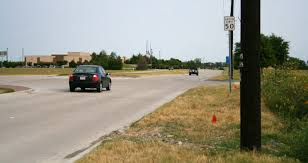speedLimit50: (223, 15, 237, 31)
